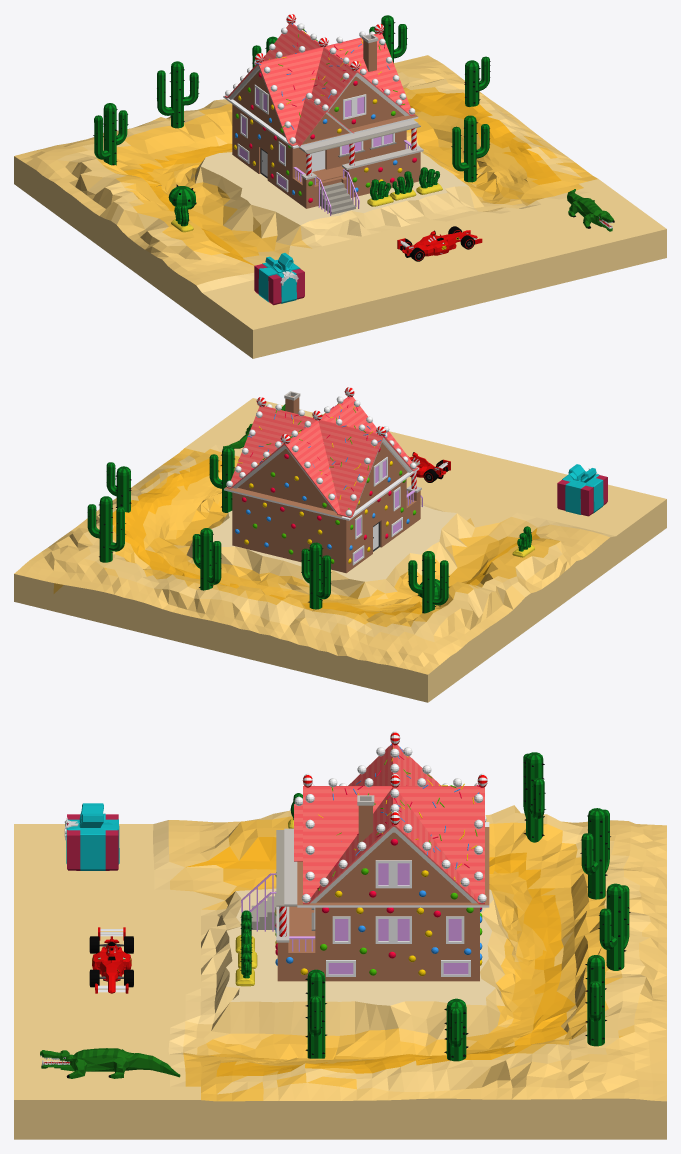
3 views of the same model, one above another, from view 1: azimuth 30°, elevation 25°; view 2: azimuth 150°, elevation 25°; view 3: azimuth 270°, elevation 25° (orthographic). The views are drawn at different scales.
Parts seen in each view (by area): view 1: Cube.001, Cube.1203, OBJRANDOM_GIANT_PRESENT, Cylinder.044, Cylinder.037, Cylinder.045, VEHICLES_FORMULA_1, ANIMAL_COCODRILO, Cylinder.038, Cylinder.042, Cylinder.039, Cylinder.041; view 2: Cube.001, Cube.1203, OBJRANDOM_GIANT_PRESENT, Cylinder.042, Cylinder.045, Cylinder.044, Cylinder.043, Cylinder.037, Cylinder.038, VEHICLES_FORMULA_1; view 3: Cube.001, Cube.1203, OBJRANDOM_GIANT_PRESENT, ANIMAL_COCODRILO, VEHICLES_FORMULA_1, Cylinder.043, Cylinder.044, Cylinder.045, Cylinder.037, Cylinder.042, Cylinder.038, Cylinder.041.
Boxes of the visible parts, left/top/right/bottom form: Cube.001: left=14, top=55, right=666, bottom=358; Cube.1203: left=223, top=14, right=423, bottom=215; OBJRANDOM_GIANT_PRESENT: left=254, top=253, right=304, bottom=305; Cylinder.044: left=157, top=61, right=199, bottom=128; Cylinder.037: left=451, top=115, right=489, bottom=182; Cylinder.045: left=93, top=103, right=128, bottom=165; VEHICLES_FORMULA_1: left=397, top=226, right=482, bottom=261; ANIMAL_COCODRILO: left=567, top=189, right=614, bottom=231; Cylinder.038: left=464, top=56, right=490, bottom=106; Cylinder.042: left=369, top=15, right=407, bottom=63; Cylinder.039: left=367, top=179, right=393, bottom=206; Cylinder.041: left=416, top=167, right=442, bottom=194; Cube.001: left=14, top=398, right=666, bottom=702; Cube.1203: left=224, top=387, right=422, bottom=573; OBJRANDOM_GIANT_PRESENT: left=557, top=464, right=607, bottom=516; Cylinder.042: left=87, top=496, right=125, bottom=562; Cylinder.045: left=408, top=551, right=449, bottom=613; Cylinder.044: left=301, top=542, right=331, bottom=609; Cylinder.043: left=192, top=528, right=221, bottom=590; Cylinder.037: left=209, top=446, right=239, bottom=512; Cylinder.038: left=106, top=462, right=131, bottom=512; VEHICLES_FORMULA_1: left=408, top=452, right=450, bottom=482; Cube.001: left=14, top=805, right=666, bottom=1139; Cube.1203: left=241, top=731, right=489, bottom=981; OBJRANDOM_GIANT_PRESENT: left=64, top=803, right=119, bottom=870; ANIMAL_COCODRILO: left=40, top=1048, right=180, bottom=1078; VEHICLES_FORMULA_1: left=89, top=927, right=133, bottom=993; Cylinder.043: left=598, top=883, right=630, bottom=970; Cylinder.044: left=580, top=808, right=610, bottom=899; Cylinder.045: left=523, top=752, right=545, bottom=842; Cylinder.037: left=305, top=969, right=326, bottom=1058; Cylinder.042: left=585, top=955, right=606, bottom=1046; Cylinder.038: left=444, top=998, right=468, bottom=1061; Cylinder.041: left=235, top=943, right=254, bottom=986.
Size of the model in its own units: 4002 by 1729 by 4001.
Materials: 40 (3 with a texture image).
